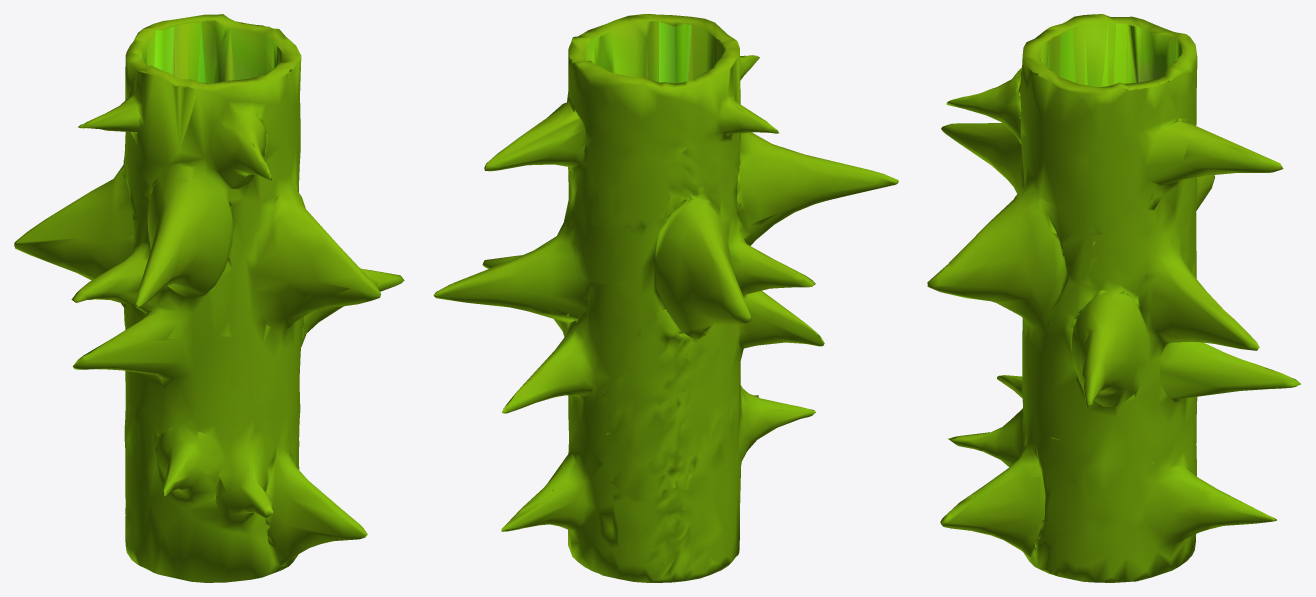
The model's file is 02_7_gs_svg_vase.glb.
The picture shows the model from 3 angles, left to right: view 1: azimuth 30°, elevation 25°; view 2: azimuth 150°, elevation 25°; view 3: azimuth 270°, elevation 25°; orthographic projection.
Visible parts, largest first — view 1: tripo_material_057bea37-276b-4afa-aac5-3b046fab707c; view 2: tripo_material_057bea37-276b-4afa-aac5-3b046fab707c; view 3: tripo_material_057bea37-276b-4afa-aac5-3b046fab707c.
Part boxes in pixels (bbox=[...]): tripo_material_057bea37-276b-4afa-aac5-3b046fab707c: bbox=[14, 14, 404, 582]; tripo_material_057bea37-276b-4afa-aac5-3b046fab707c: bbox=[433, 14, 898, 582]; tripo_material_057bea37-276b-4afa-aac5-3b046fab707c: bbox=[927, 14, 1300, 582].
Size of the model in its own units: 0.2142 by 0.3 by 0.2036.
1 material, 1 textured.
